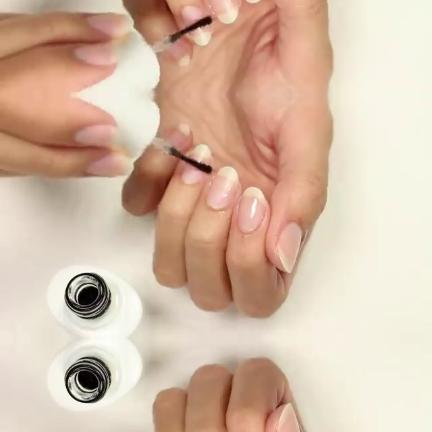Nail: (276, 221, 303, 272), (206, 165, 238, 208), (238, 186, 266, 232), (72, 124, 121, 148), (72, 40, 121, 64), (87, 151, 132, 175), (87, 13, 132, 37), (276, 402, 301, 432), (209, 0, 238, 23), (167, 122, 190, 147), (167, 41, 190, 66), (190, 143, 211, 163), (190, 25, 211, 45), (182, 165, 202, 183), (182, 5, 202, 23), (246, 0, 259, 2)
